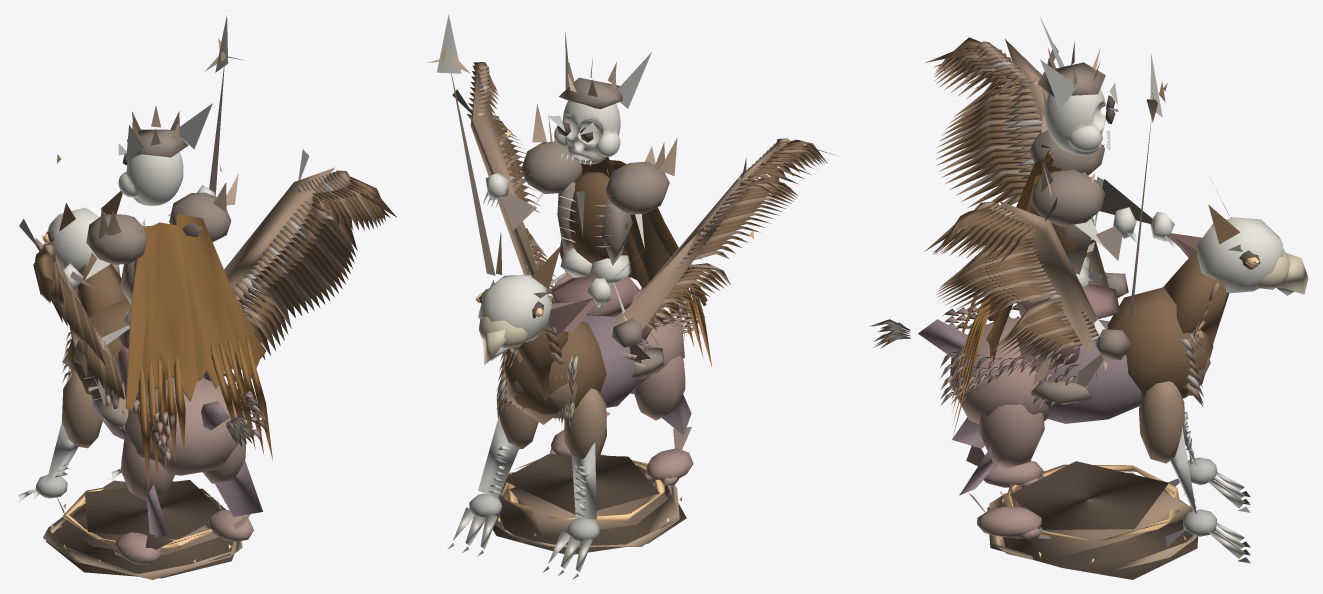
Rendered from cavalier_griffon_orange.fbx.
3 views of the same model, side by side, from view 1: azimuth 30°, elevation 25°; view 2: azimuth 150°, elevation 25°; view 3: azimuth 270°, elevation 25° (orthographic). The views are drawn at different scales.
Visible parts, largest first — view 1: cavalier_griffon_orange; view 2: cavalier_griffon_orange; view 3: cavalier_griffon_orange.
Boxes of the visible parts, box(x1,y1,x2,y2) form: cavalier_griffon_orange: box(18, 15, 396, 579); cavalier_griffon_orange: box(427, 15, 833, 579); cavalier_griffon_orange: box(869, 16, 1308, 579).
Bounding box in the file's own units: 142 × 189 × 140.
